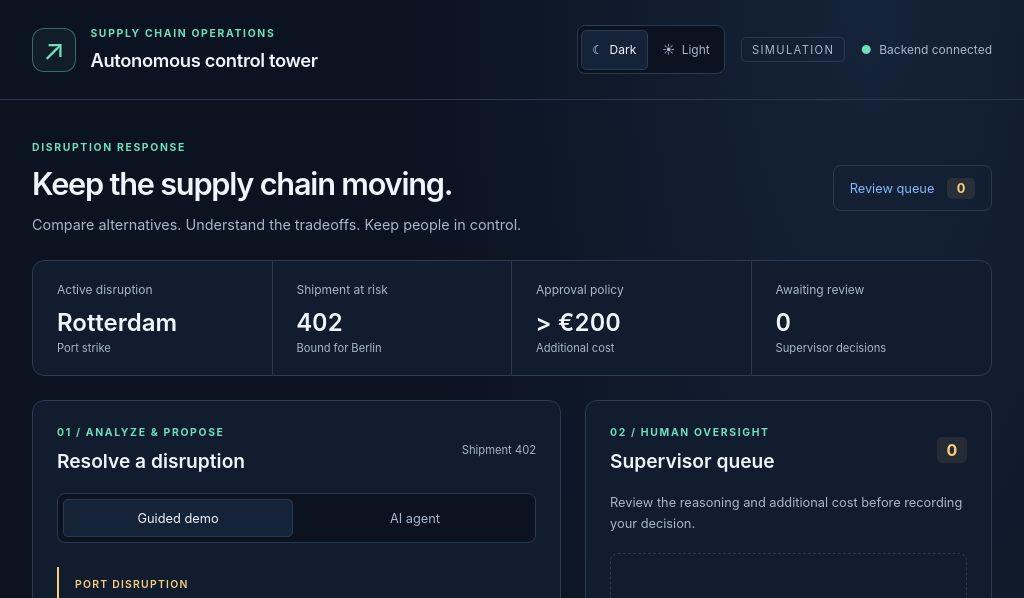
Test: disruption workflow › shows failed analysis and still refreshes proposals created before the failure
Click the button "AI agent": (415, 518) [300, 499, 530, 537]
(page scrolled)
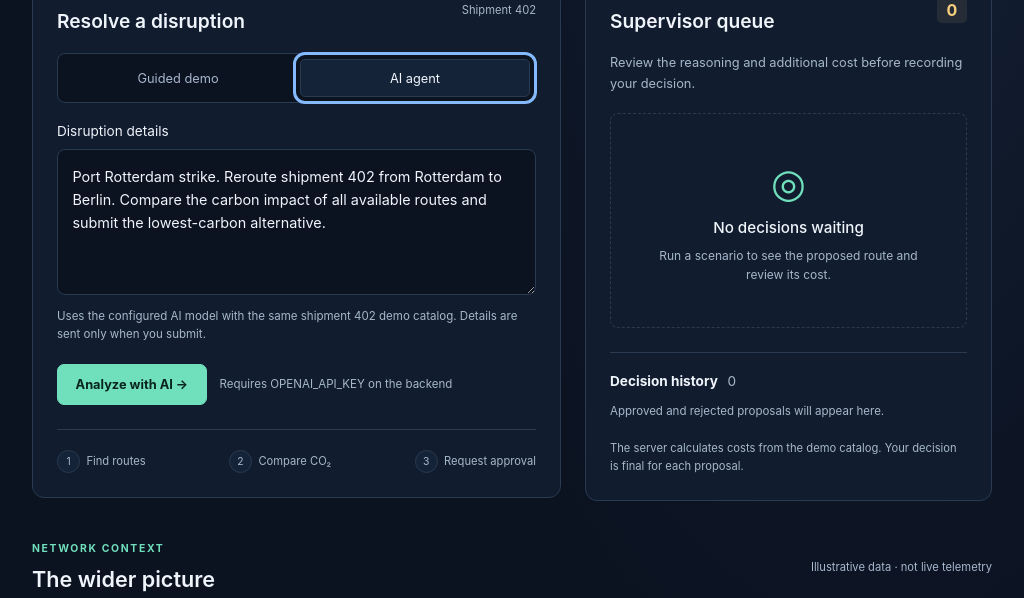
Click the button "Analyze with AI →": (132, 384) [57, 364, 207, 405]
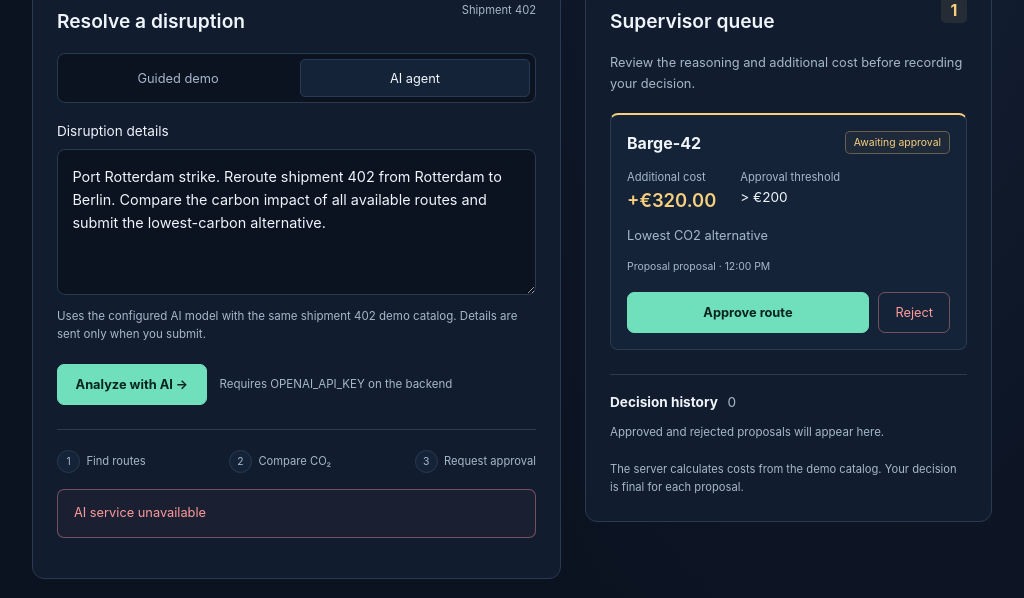
Expected: the message reads "AI service unavailable", [74, 505, 206, 520]
Expected: the button with aria-label "Approve Barge-42" is shown, [627, 292, 869, 333]
